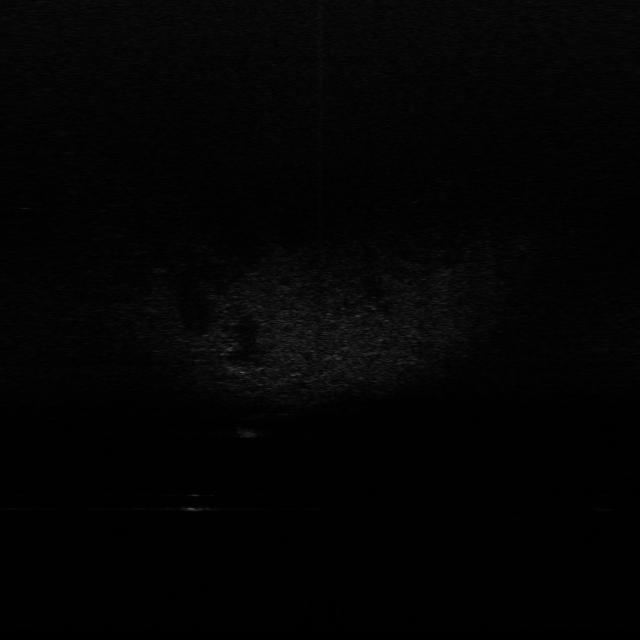ball: (182, 488, 213, 515)
cube: (233, 422, 263, 441)
